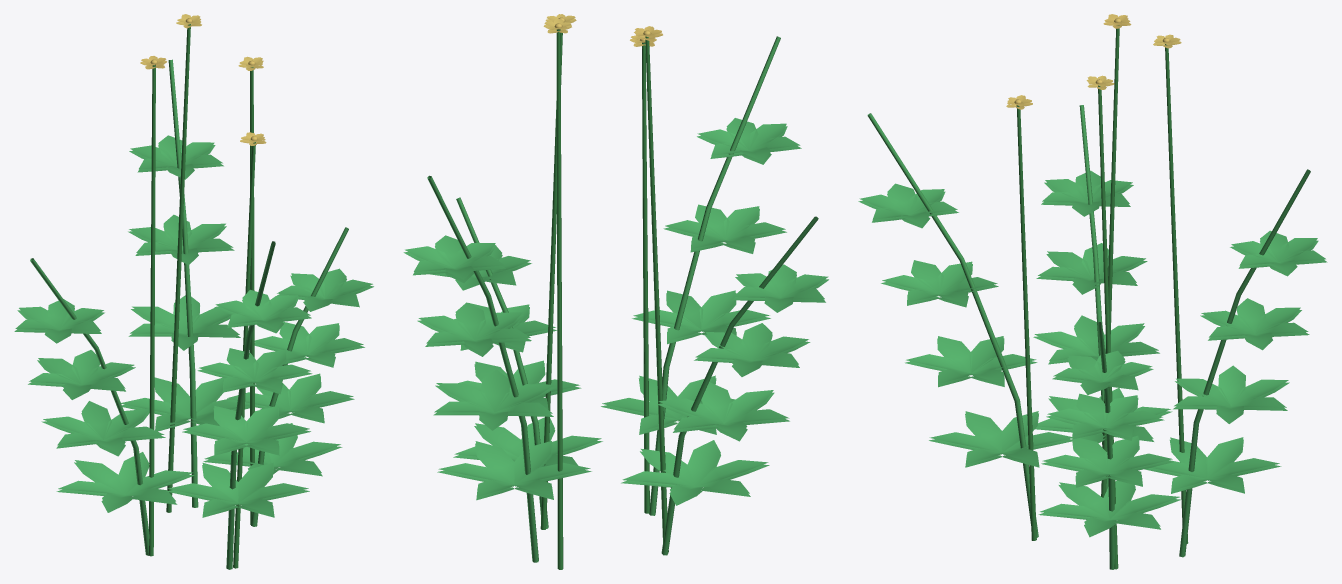
Rendered from ing_madder.gltf.
The picture shows the model from 3 angles, left to right: view 1: azimuth 30°, elevation 25°; view 2: azimuth 150°, elevation 25°; view 3: azimuth 270°, elevation 25°; orthographic projection. The views are drawn at different scales.
Visible parts, largest first — view 1: ing_madder; view 2: ing_madder; view 3: ing_madder.
Part boxes in pixels (box(x1,y1,x2,y2)): ing_madder: box(14, 14, 373, 569); ing_madder: box(403, 14, 828, 569); ing_madder: box(858, 14, 1327, 569).
Size of what is drawn, in the model's own units: 0.3797 by 0.5028 by 0.4187.
